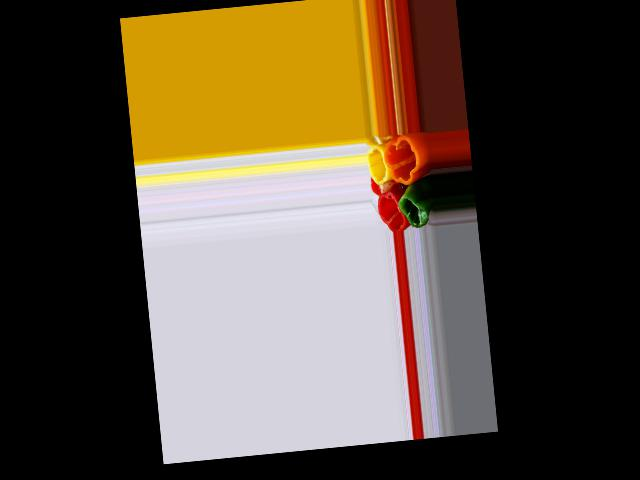bell_pepper: (375, 189, 405, 231)
